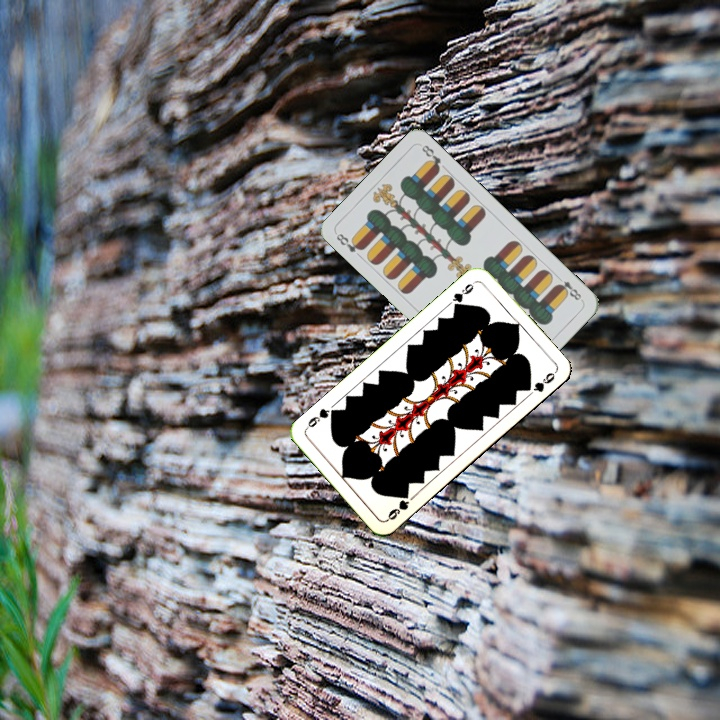E8: (552, 271, 585, 304), (332, 229, 366, 255)
G9: (444, 277, 478, 312), (383, 488, 412, 524)
